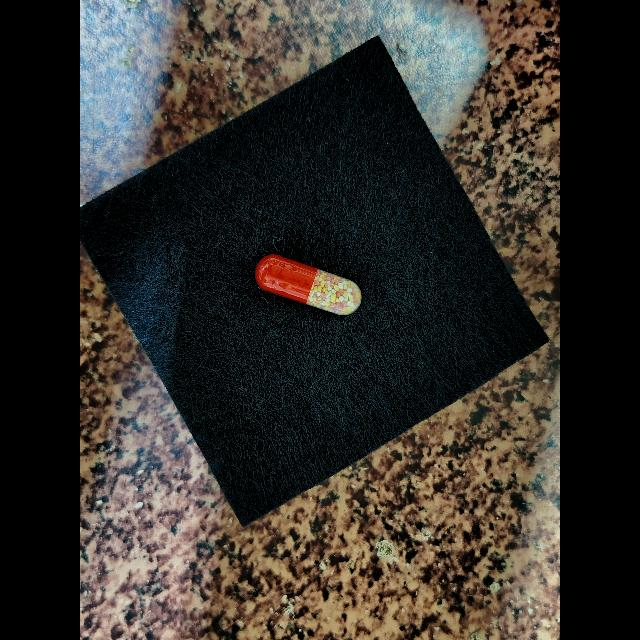Intact Capsule: (255, 255, 362, 315)
